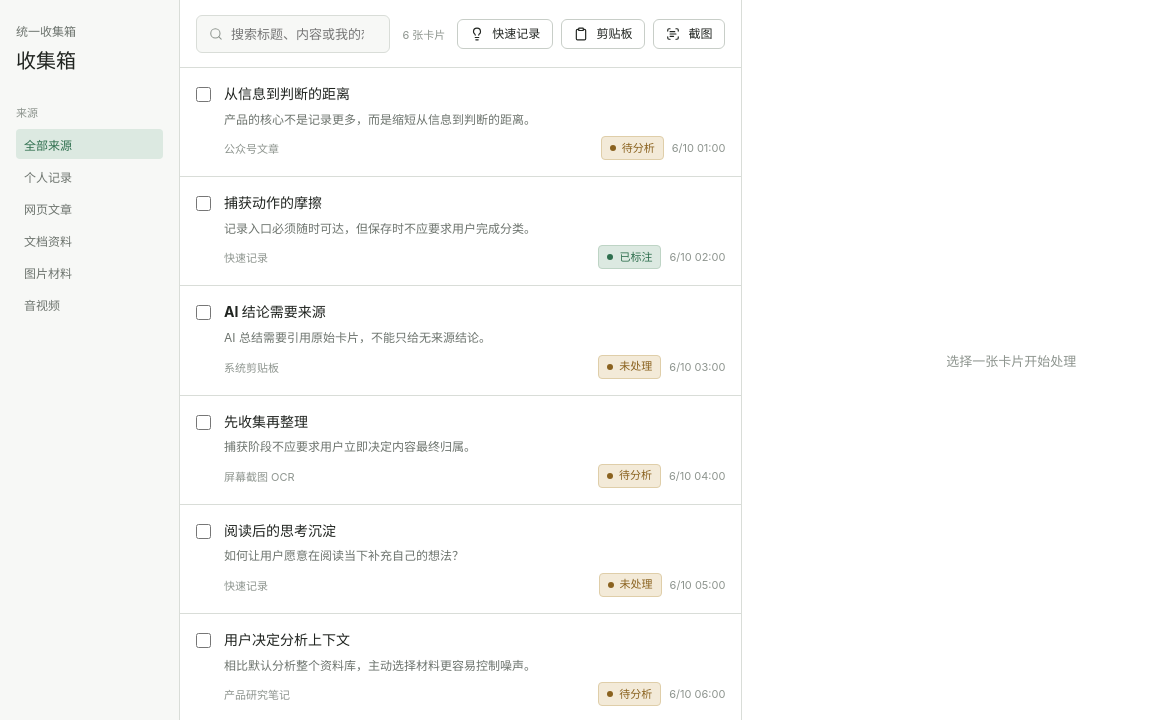
Scenario: InboxPage › shows the single-card analysis label when one card is selected
Click the checkbox named "选择「从信息到判断的距离」" at coordinates (204, 94), box [196,87,211,102]
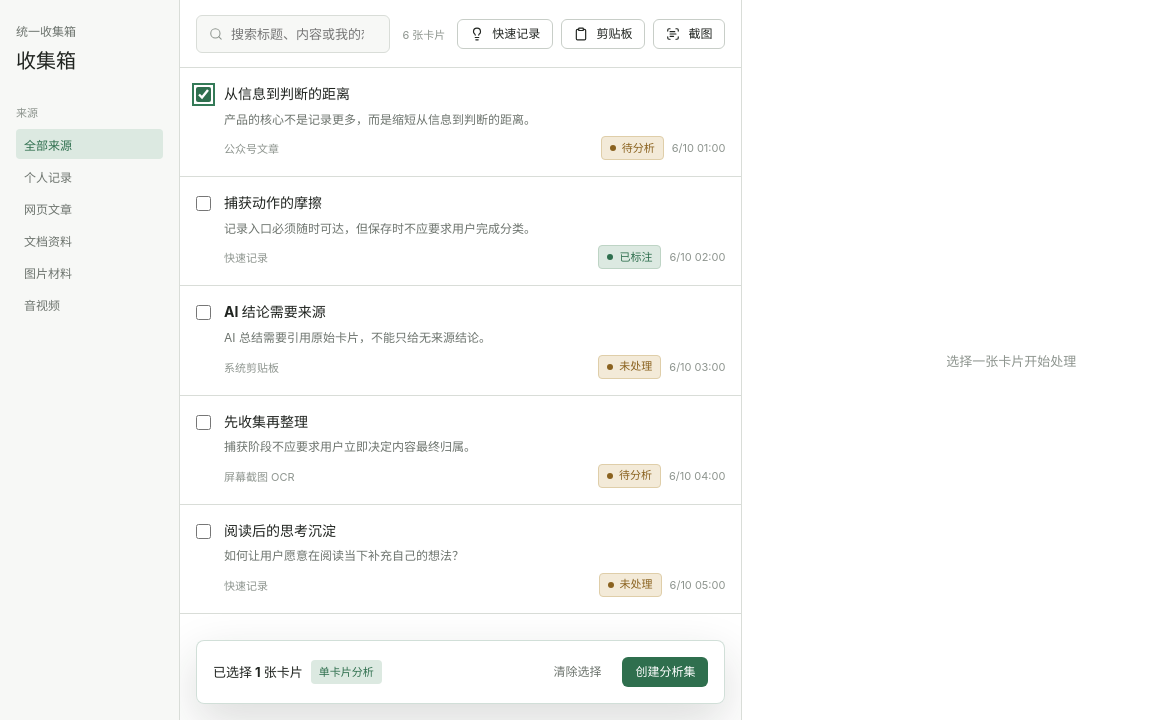
Check: the text "已选择 1 张卡片" is shown, box [213,663,303,681]
Check: the text "单卡片分析" is shown, box [311,660,382,684]
